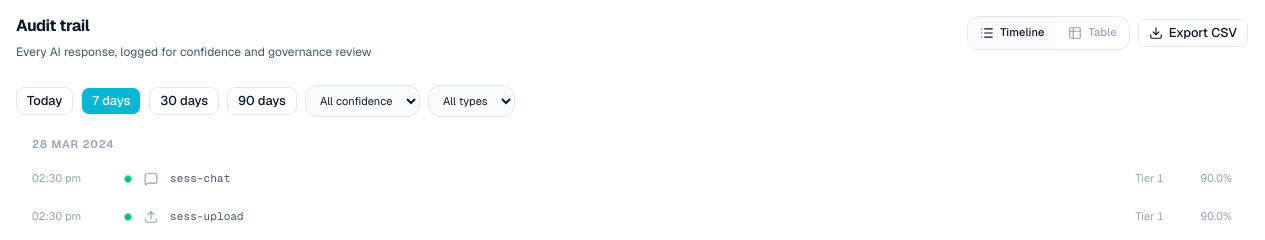
Test: AuditTrailPage › filters entries client-side by request type
The image size is (1265, 240).
Select "Upload" in the dropdown named "Filter by request type" at (471, 101), box [428,85,515,117]
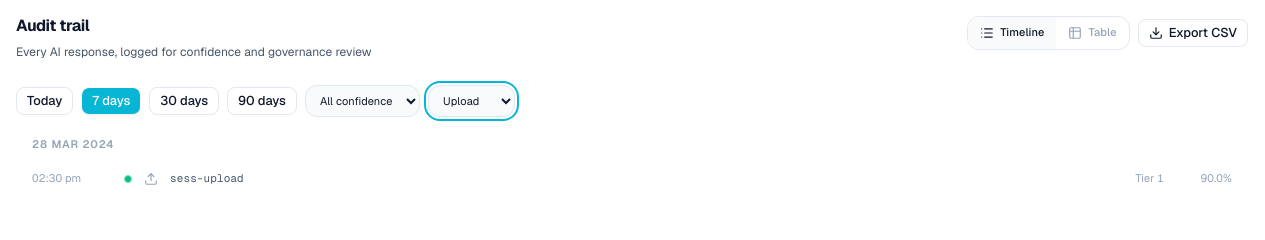
Result: the number of links is 1 at [32,171,1232,186]
